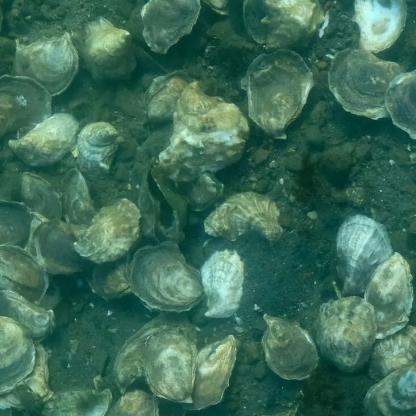Oyster- Indeterminate: (11, 33, 80, 98)
Oyster-Closed: (160, 82, 250, 182), (113, 312, 197, 395), (246, 48, 314, 140), (329, 49, 406, 119), (130, 242, 204, 313), (317, 296, 377, 372), (336, 215, 393, 295), (74, 198, 141, 264), (365, 252, 414, 338), (182, 335, 238, 410), (142, 325, 195, 404), (204, 192, 283, 244), (73, 18, 136, 80), (201, 248, 256, 318), (9, 113, 79, 166), (263, 314, 319, 380), (0, 340, 52, 408), (31, 220, 91, 275), (261, 0, 325, 50), (0, 76, 52, 137), (143, 0, 201, 53), (0, 244, 49, 303), (363, 363, 416, 416), (368, 324, 416, 381), (0, 293, 55, 340), (0, 317, 34, 392), (145, 71, 195, 121), (77, 122, 119, 180), (59, 168, 98, 225), (386, 69, 416, 139), (87, 253, 132, 299), (39, 388, 112, 416), (21, 171, 63, 219), (176, 171, 223, 211), (108, 382, 159, 416), (0, 199, 32, 246), (23, 211, 49, 254)
Oyster-Open: (138, 158, 189, 244)
